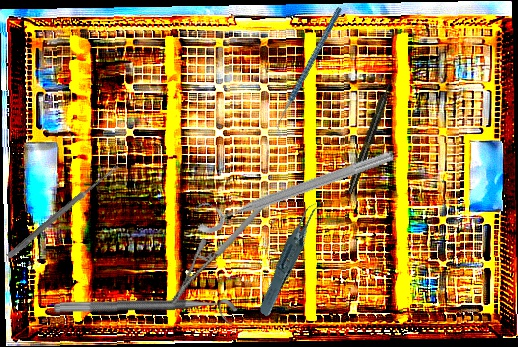Chopper: (240, 5, 378, 140)
Fixation Ring: (189, 134, 398, 237), (53, 298, 239, 328)
Handpiece: (345, 80, 395, 196)
Needle Holder: (148, 193, 298, 306)
Surgical Spoon: (6, 163, 120, 260)
Tissue Forceps: (238, 198, 345, 318)
